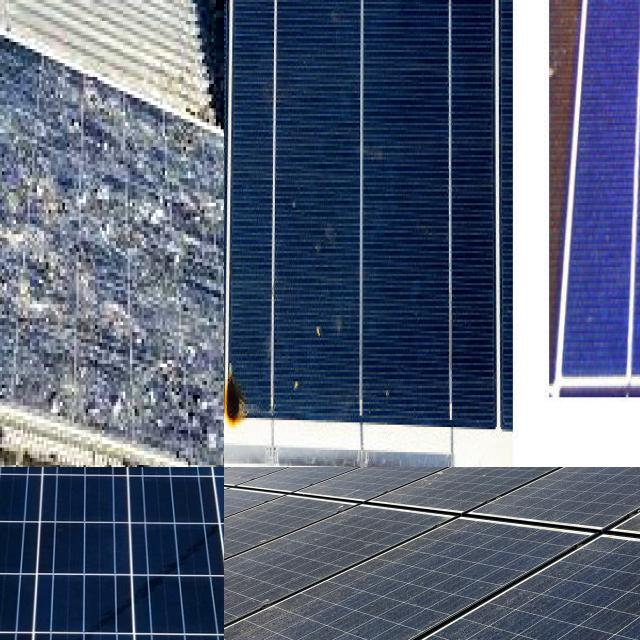bird: (43, 92, 160, 228), (20, 334, 144, 412), (0, 137, 77, 262), (0, 284, 76, 368), (176, 118, 224, 248), (0, 0, 48, 94), (0, 186, 38, 299), (189, 287, 224, 390)
crack: (0, 467, 224, 640), (0, 467, 224, 551), (0, 467, 126, 533)
dust: (224, 561, 420, 638), (579, 541, 640, 629), (224, 500, 287, 558)
shadow: (546, 0, 587, 382), (224, 302, 272, 452)
